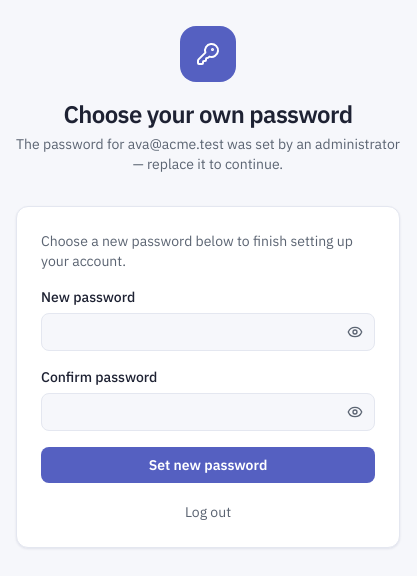
Test: forced password change (P3-2) › shows the mismatch error and does not submit when passwords differ
Expected: the heading "Choose your own password" is shown, [63,98,352,130]
Type "myBrandNew9" into the password field labelled "New password" at (208, 332), box [41,313,375,351]
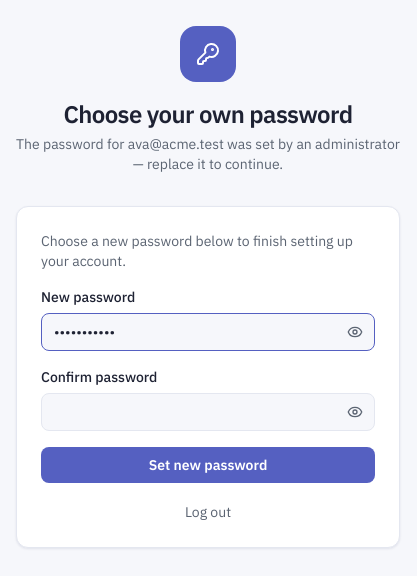
Type "different9" into the password field labelled "Confirm password" at (208, 412), box [41,393,375,431]
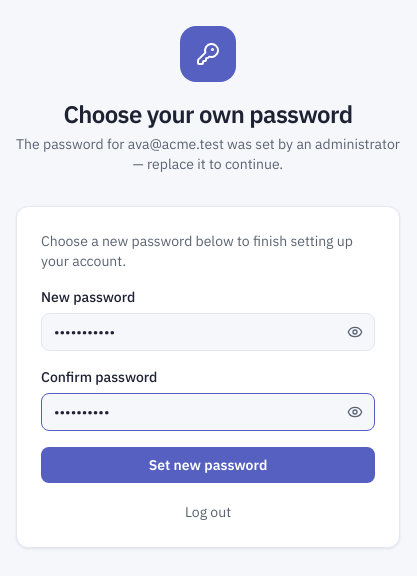
Click the button "Set new password" at (208, 465), box [41,447,375,483]
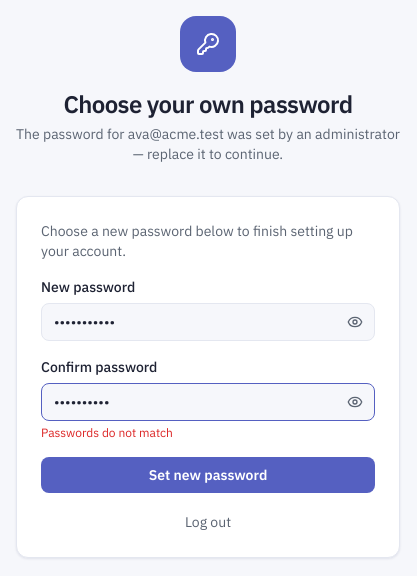
Expected: the text "Passwords do not match" is shown, [41,425,173,440]
